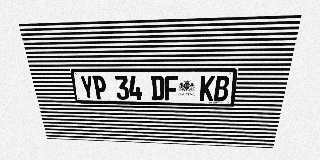3: (115, 76, 129, 100)
4: (128, 76, 142, 100)
B: (213, 76, 230, 101)
D: (151, 76, 164, 100)
F: (164, 76, 178, 101)
K: (199, 76, 215, 101)
P: (92, 76, 107, 99)
Y: (79, 76, 95, 99)
